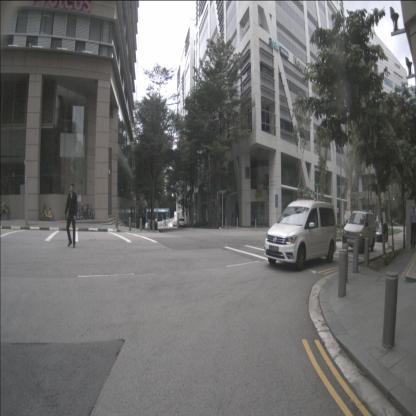human-pedestrian-adult: (65, 183, 77, 249), (410, 203, 415, 250), (232, 208, 235, 226), (142, 216, 144, 230)
vehicle-bicycle: (41, 204, 55, 221)
vehicle-car: (264, 200, 337, 271), (342, 211, 376, 254), (372, 221, 388, 242), (177, 216, 185, 228)
